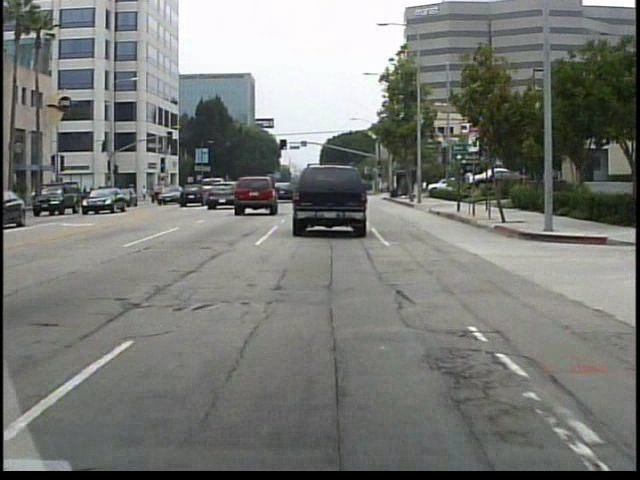person: (140, 182, 150, 203)
